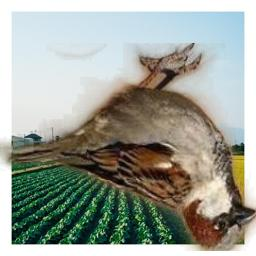Sparrow: (0, 43, 256, 251)
